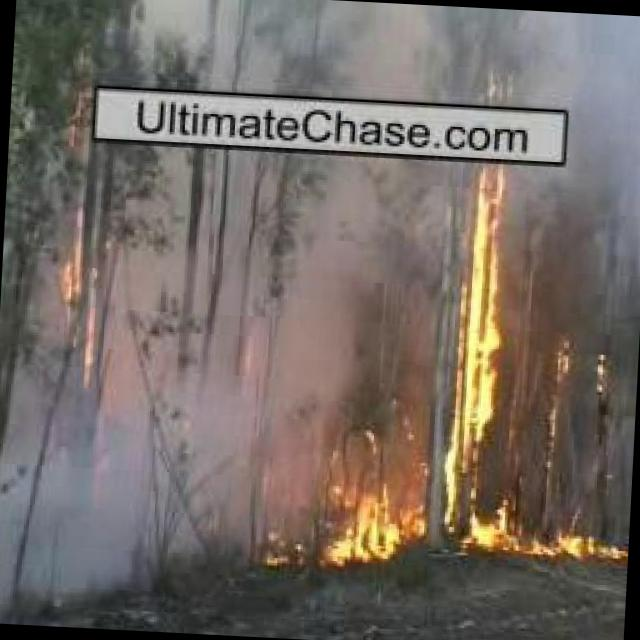Fire: (320, 467, 627, 572), (448, 165, 522, 470), (54, 204, 109, 326), (544, 326, 576, 450), (594, 343, 613, 408)
Smoke: (0, 141, 453, 619), (134, 0, 640, 97)
